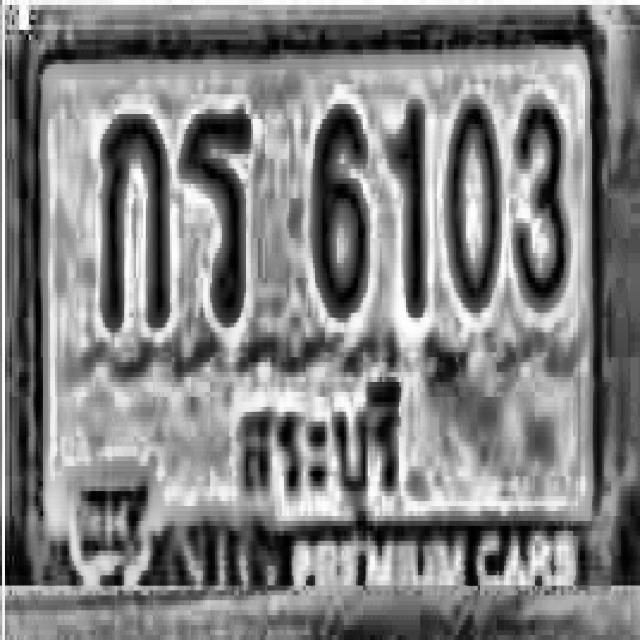license-plate: (27, 16, 608, 588)
